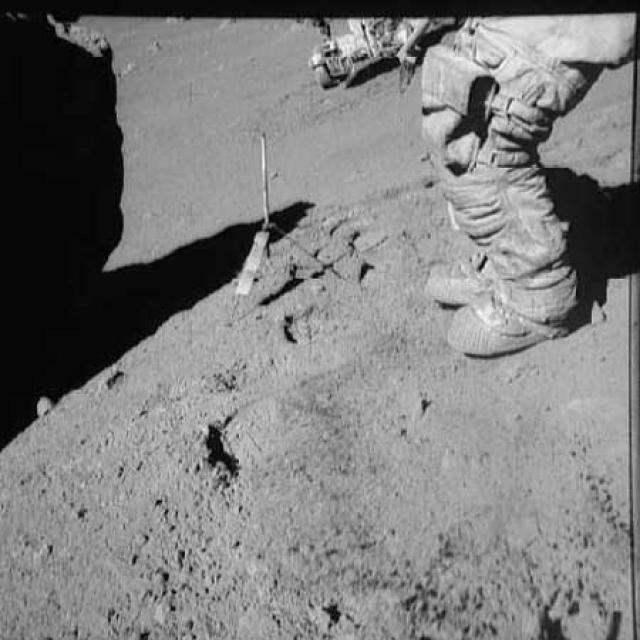artifact: (296, 12, 630, 356), (206, 123, 344, 297)
